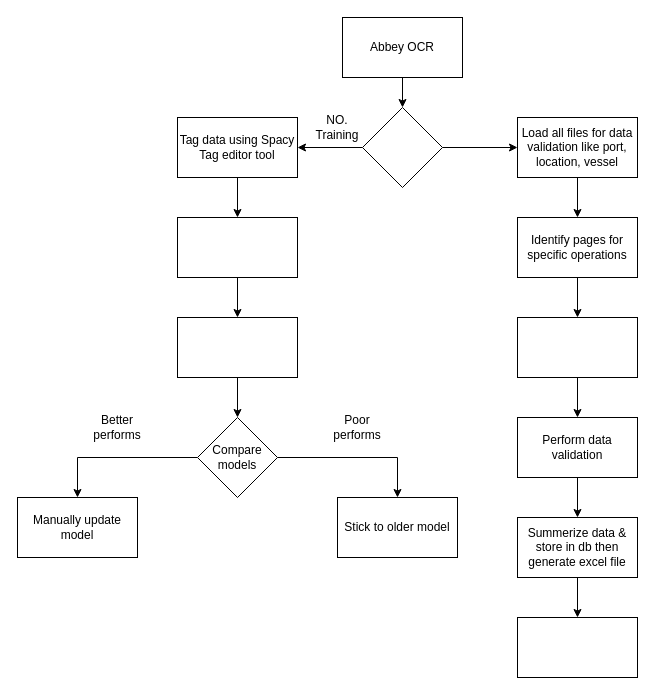
Some shapes in this 655 by 695 pixel diagram are drawn without their labels. The shapes that lost their labels are listed below. From the top down, each one's box as (x1, y1, x2, y2) in pixels, then its label:
(362, 106, 442, 188): Prediction
(176, 216, 298, 278): Run training script
(176, 316, 298, 378): Manual evaluate 50 model perform based F1-score
(516, 316, 638, 378): Perform extraction using spacy, regex
(516, 616, 638, 678): Files are moved processed folder
